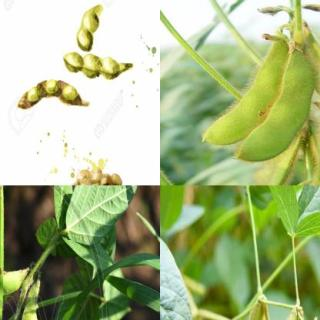soya: (201, 44, 287, 144), (236, 52, 314, 162), (256, 137, 302, 185), (16, 80, 91, 108), (62, 51, 133, 80), (76, 4, 104, 51), (0, 240, 24, 294), (22, 281, 40, 319), (236, 307, 259, 319)
